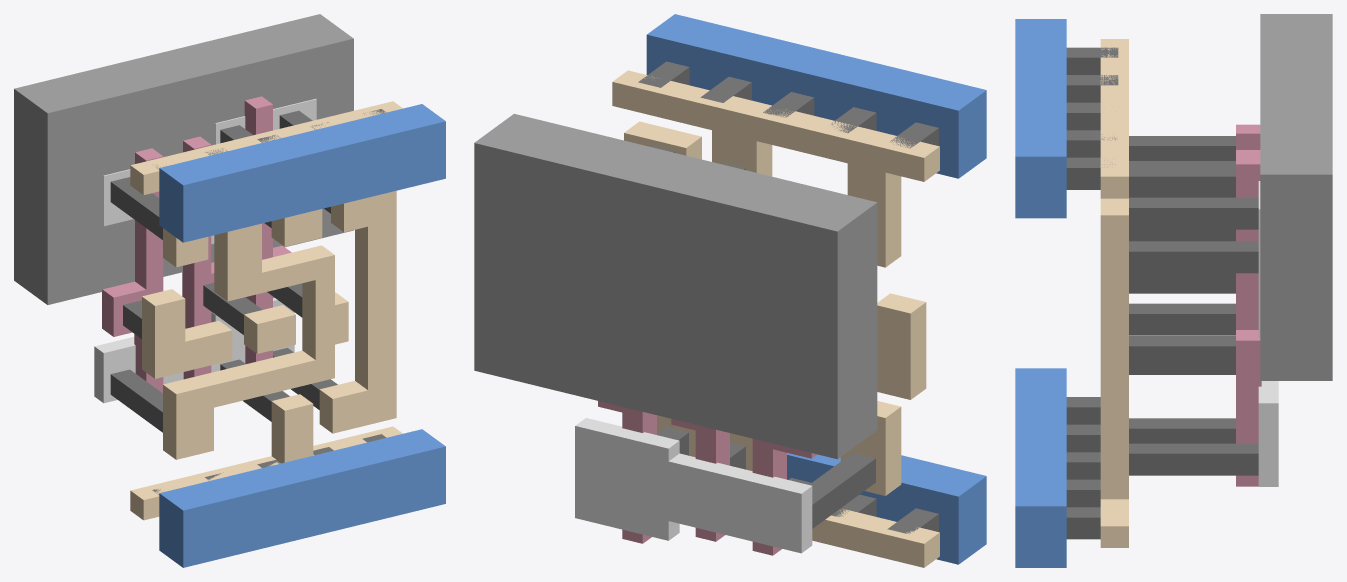
Rendered from sky130_fd_sc_hd__lpflow_inputiso0n_1.gds.gltf.
3 views of the same model, side by side, from view 1: azimuth 30°, elevation 25°; view 2: azimuth 150°, elevation 25°; view 3: azimuth 270°, elevation 25° (orthographic). The views are drawn at different scales.
Parts seen in each view (by area): view 1: sky130_fd_sc_hd__lpflow_inputiso0n_1_li1, sky130_fd_sc_hd__lpflow_inputiso0n_1_met1, sky130_fd_sc_hd__lpflow_inputiso0n_1_nwell, sky130_fd_sc_hd__lpflow_inputiso0n_1_poly, sky130_fd_sc_hd__lpflow_inputiso0n_1_licon, sky130_fd_sc_hd__lpflow_inputiso0n_1_diff, sky130_fd_sc_hd__lpflow_inputiso0n_1_mcon; view 2: sky130_fd_sc_hd__lpflow_inputiso0n_1_nwell, sky130_fd_sc_hd__lpflow_inputiso0n_1_li1, sky130_fd_sc_hd__lpflow_inputiso0n_1_met1, sky130_fd_sc_hd__lpflow_inputiso0n_1_diff, sky130_fd_sc_hd__lpflow_inputiso0n_1_mcon, sky130_fd_sc_hd__lpflow_inputiso0n_1_poly, sky130_fd_sc_hd__lpflow_inputiso0n_1_licon; view 3: sky130_fd_sc_hd__lpflow_inputiso0n_1_licon, sky130_fd_sc_hd__lpflow_inputiso0n_1_nwell, sky130_fd_sc_hd__lpflow_inputiso0n_1_met1, sky130_fd_sc_hd__lpflow_inputiso0n_1_li1, sky130_fd_sc_hd__lpflow_inputiso0n_1_mcon, sky130_fd_sc_hd__lpflow_inputiso0n_1_poly, sky130_fd_sc_hd__lpflow_inputiso0n_1_diff.
Part boxes in pixels (x1=…): sky130_fd_sc_hd__lpflow_inputiso0n_1_li1: x1=130, y1=101, x2=402, y2=520; sky130_fd_sc_hd__lpflow_inputiso0n_1_met1: x1=159, y1=104, x2=445, y2=567; sky130_fd_sc_hd__lpflow_inputiso0n_1_nwell: x1=14, y1=14, x2=353, y2=304; sky130_fd_sc_hd__lpflow_inputiso0n_1_poly: x1=102, y1=96, x2=291, y2=393; sky130_fd_sc_hd__lpflow_inputiso0n_1_licon: x1=110, y1=110, x2=337, y2=432; sky130_fd_sc_hd__lpflow_inputiso0n_1_diff: x1=94, y1=98, x2=316, y2=403; sky130_fd_sc_hd__lpflow_inputiso0n_1_mcon: x1=152, y1=109, x2=386, y2=494; sky130_fd_sc_hd__lpflow_inputiso0n_1_nwell: x1=474, y1=113, x2=877, y2=459; sky130_fd_sc_hd__lpflow_inputiso0n_1_li1: x1=612, y1=70, x2=939, y2=567; sky130_fd_sc_hd__lpflow_inputiso0n_1_met1: x1=646, y1=14, x2=986, y2=564; sky130_fd_sc_hd__lpflow_inputiso0n_1_diff: x1=575, y1=418, x2=812, y2=553; sky130_fd_sc_hd__lpflow_inputiso0n_1_mcon: x1=638, y1=61, x2=938, y2=534; sky130_fd_sc_hd__lpflow_inputiso0n_1_poly: x1=598, y1=401, x2=816, y2=555; sky130_fd_sc_hd__lpflow_inputiso0n_1_licon: x1=651, y1=145, x2=875, y2=528; sky130_fd_sc_hd__lpflow_inputiso0n_1_licon: x1=1129, y1=136, x2=1258, y2=475; sky130_fd_sc_hd__lpflow_inputiso0n_1_nwell: x1=1260, y1=14, x2=1332, y2=380; sky130_fd_sc_hd__lpflow_inputiso0n_1_met1: x1=1015, y1=19, x2=1066, y2=567; sky130_fd_sc_hd__lpflow_inputiso0n_1_li1: x1=1100, y1=39, x2=1128, y2=547; sky130_fd_sc_hd__lpflow_inputiso0n_1_mcon: x1=1066, y1=47, x2=1118, y2=539; sky130_fd_sc_hd__lpflow_inputiso0n_1_poly: x1=1236, y1=124, x2=1261, y2=486; sky130_fd_sc_hd__lpflow_inputiso0n_1_diff: x1=1258, y1=181, x2=1278, y2=486.
Bounding box in the file's own units: 2.68 × 3.2 × 2.24.
